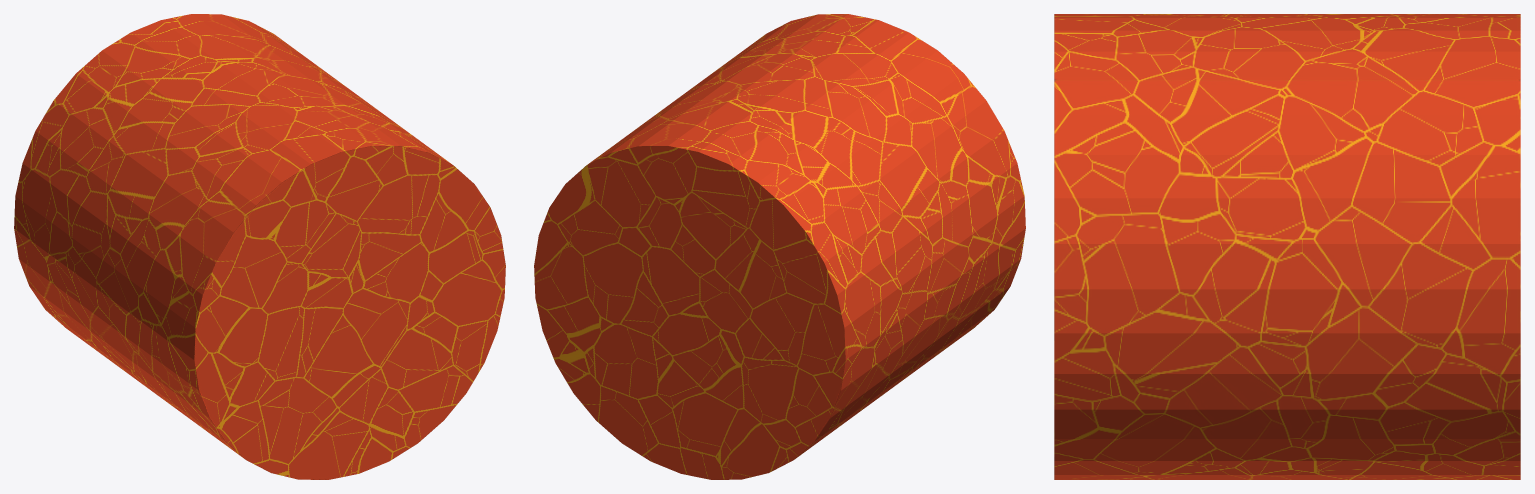
Rendered from LavaFall.fbx.
The picture shows the model from 3 angles, left to right: view 1: azimuth 30°, elevation 25°; view 2: azimuth 150°, elevation 25°; view 3: azimuth 270°, elevation 25°; orthographic projection. The views are drawn at different scales.
Parts seen in each view (by area): view 1: Cylinder; view 2: Cylinder; view 3: Cylinder.
Boxes of the visible parts, x1,y1,x2,y2 form: Cylinder: [14, 14, 505, 479]; Cylinder: [534, 14, 1025, 479]; Cylinder: [1054, 14, 1520, 479].
Bounding box in the file's own units: 1283 × 1283 × 1285.
Materials: 1 (1 with a texture image).
